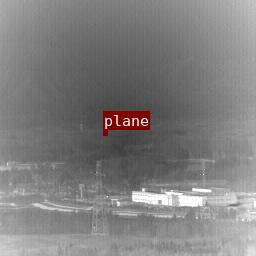plane: (103, 130, 107, 135)
